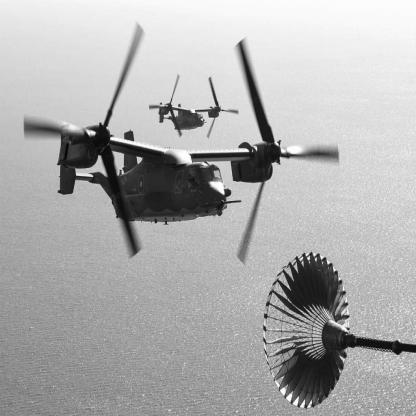V22: (24, 22, 342, 265), (150, 74, 240, 140)
